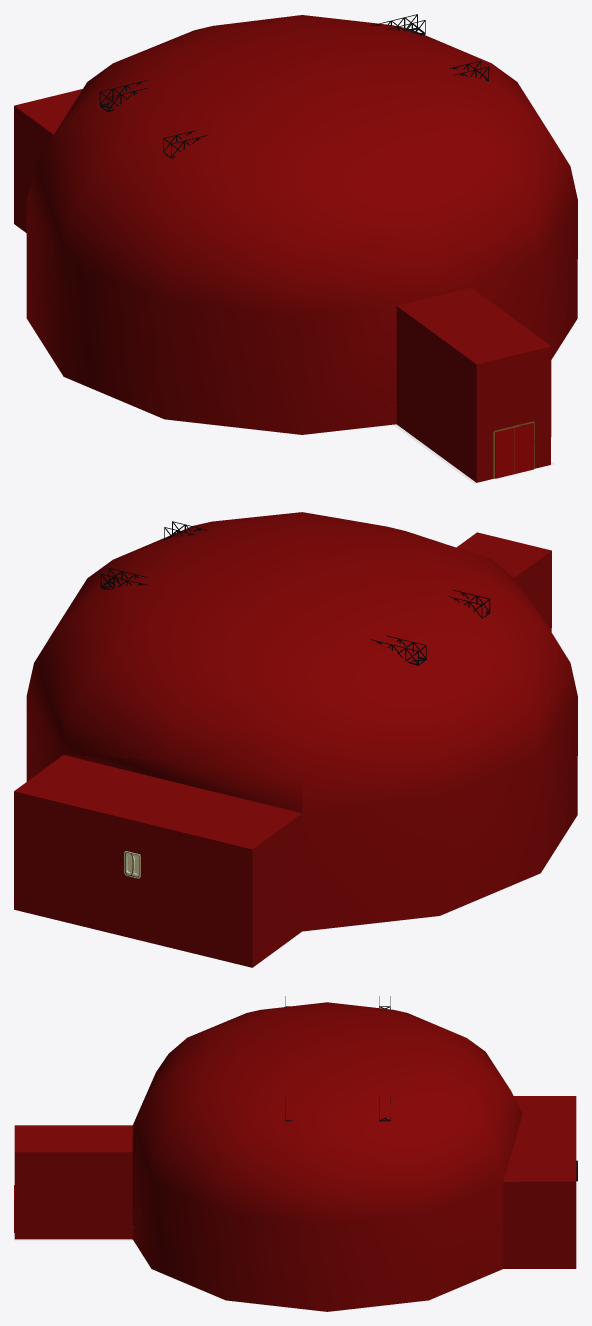
Rendered from BossLevel.fbx.
3 views of the same model, one above another, from view 1: azimuth 30°, elevation 25°; view 2: azimuth 150°, elevation 25°; view 3: azimuth 270°, elevation 25° (orthographic). The views are drawn at different scales.
Visible parts, largest first — view 1: Walls_Dome, Elevator_Door004, Elevator_Door003; view 2: Walls_Dome; view 3: Walls_Dome.
Part boxes in pixels (x1,y1,x2,y2): Walls_Dome: (14, 15, 577, 482); Elevator_Door004: (495, 427, 514, 478); Elevator_Door003: (514, 423, 533, 473); Walls_Dome: (14, 512, 577, 967); Walls_Dome: (14, 1002, 576, 1311).
Bounding box in the file's own units: 50.05 × 25.5 × 69.45.
